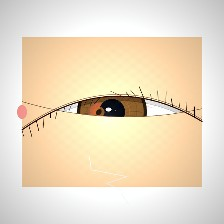foreign_body_visible: (82, 99, 115, 125)
